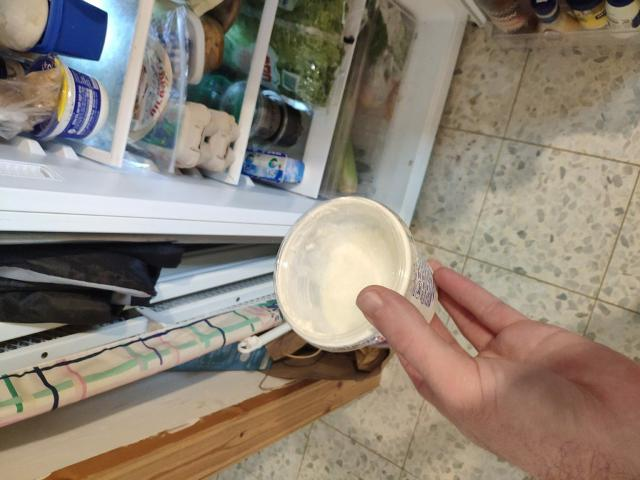cotage: (254, 204, 445, 355)
